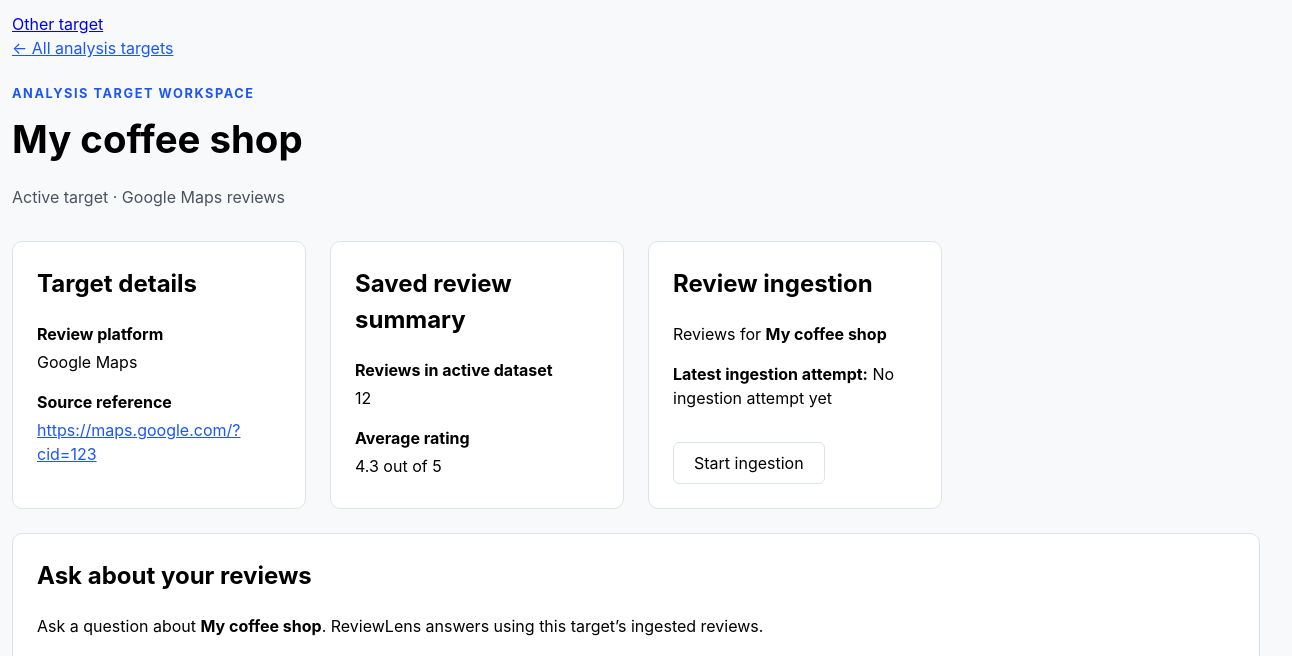
Test: TargetWorkspacePage › reports a failed PERSISTENCE_ERROR run safely after HTTP 201
Expected: the text "Latest ingestion attempt: No ingestion attempt yet" is shown, [673,362,917,410]
Click the button "Start ingestion".
click(749, 463)  # box [673,442,825,484]
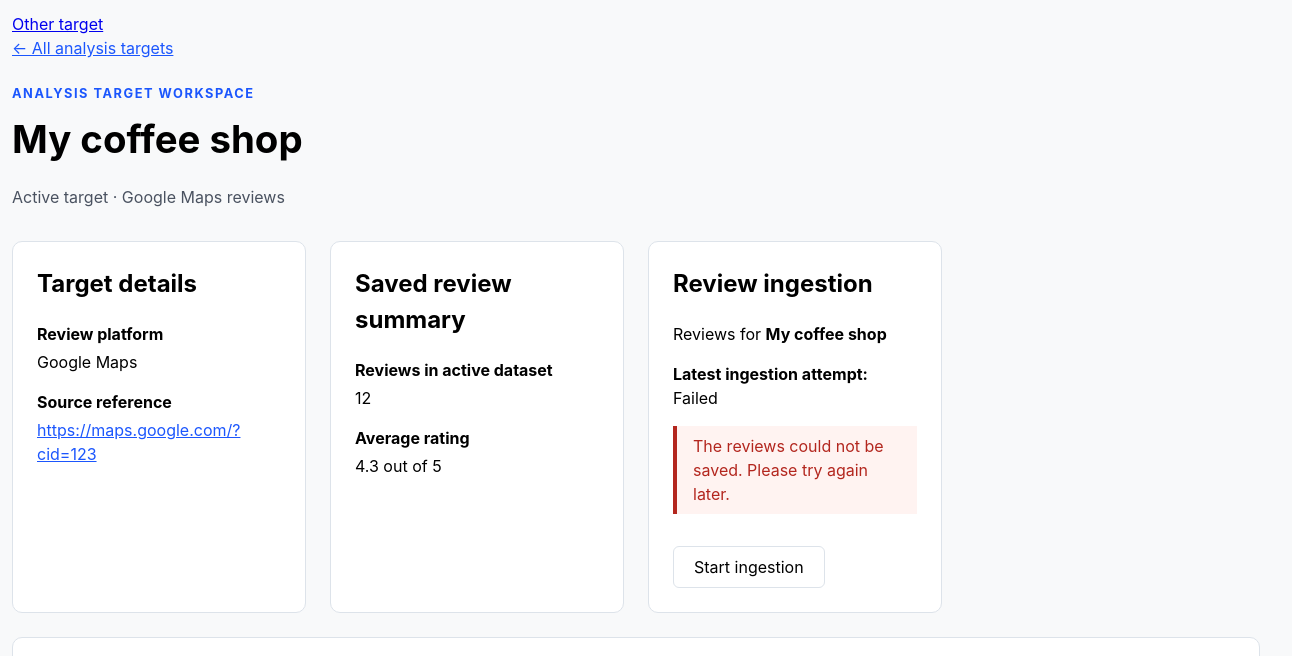
Now the message shows "The reviews could not be saved.", box [693,436,884,504]
Now the message shows "try again", box [693,436,884,504]
Now the text "Failed" is shown, box [673,388,718,408]
